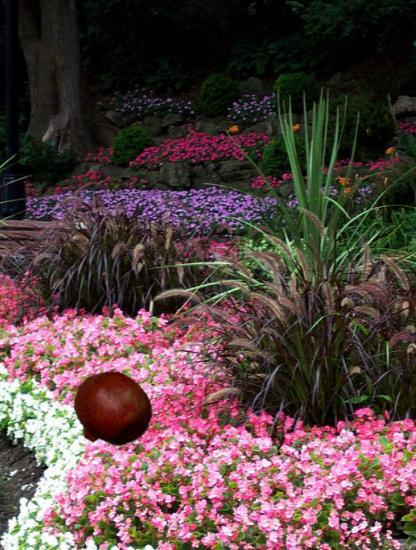Pomegranate: (71, 370, 153, 452)
